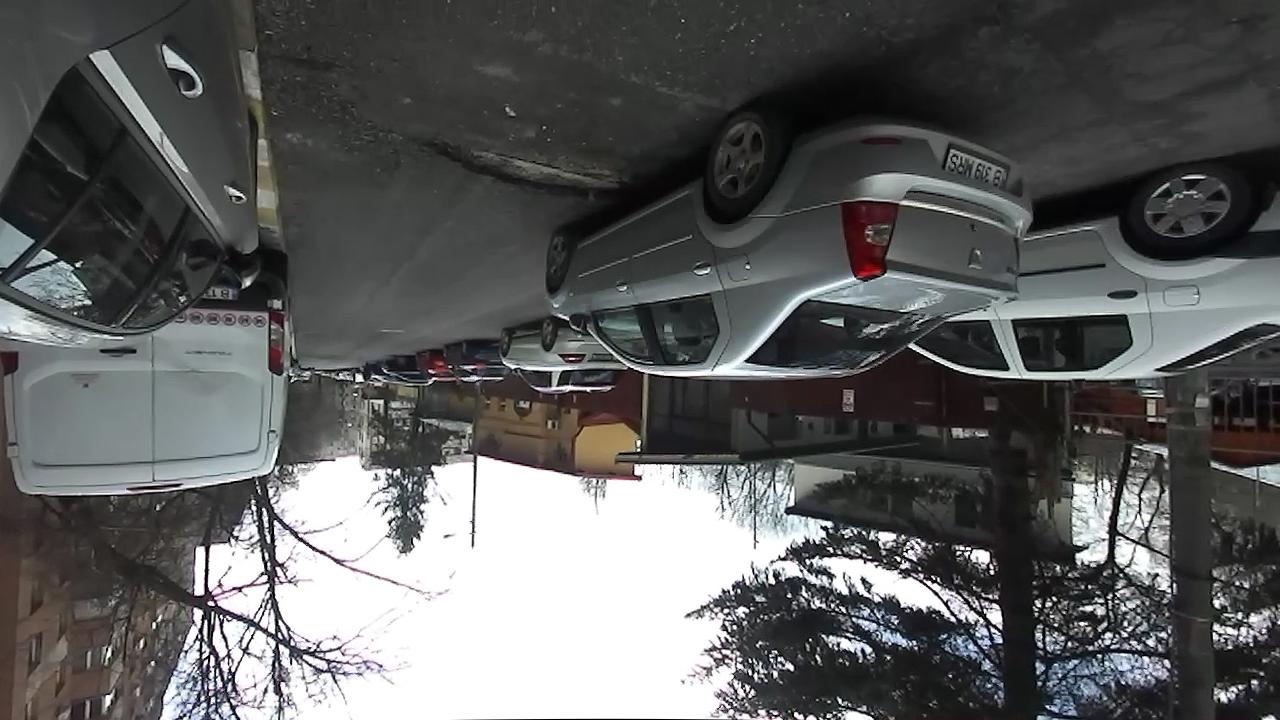pothole: (416, 136, 637, 202)
